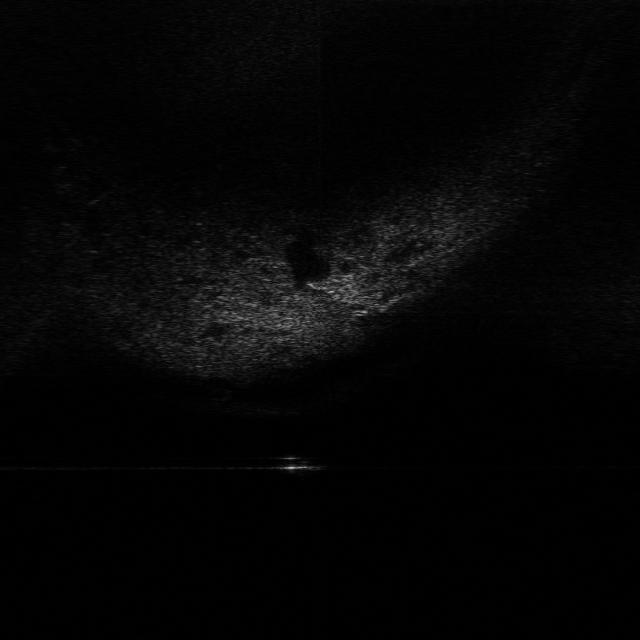cube: (272, 452, 329, 476)
